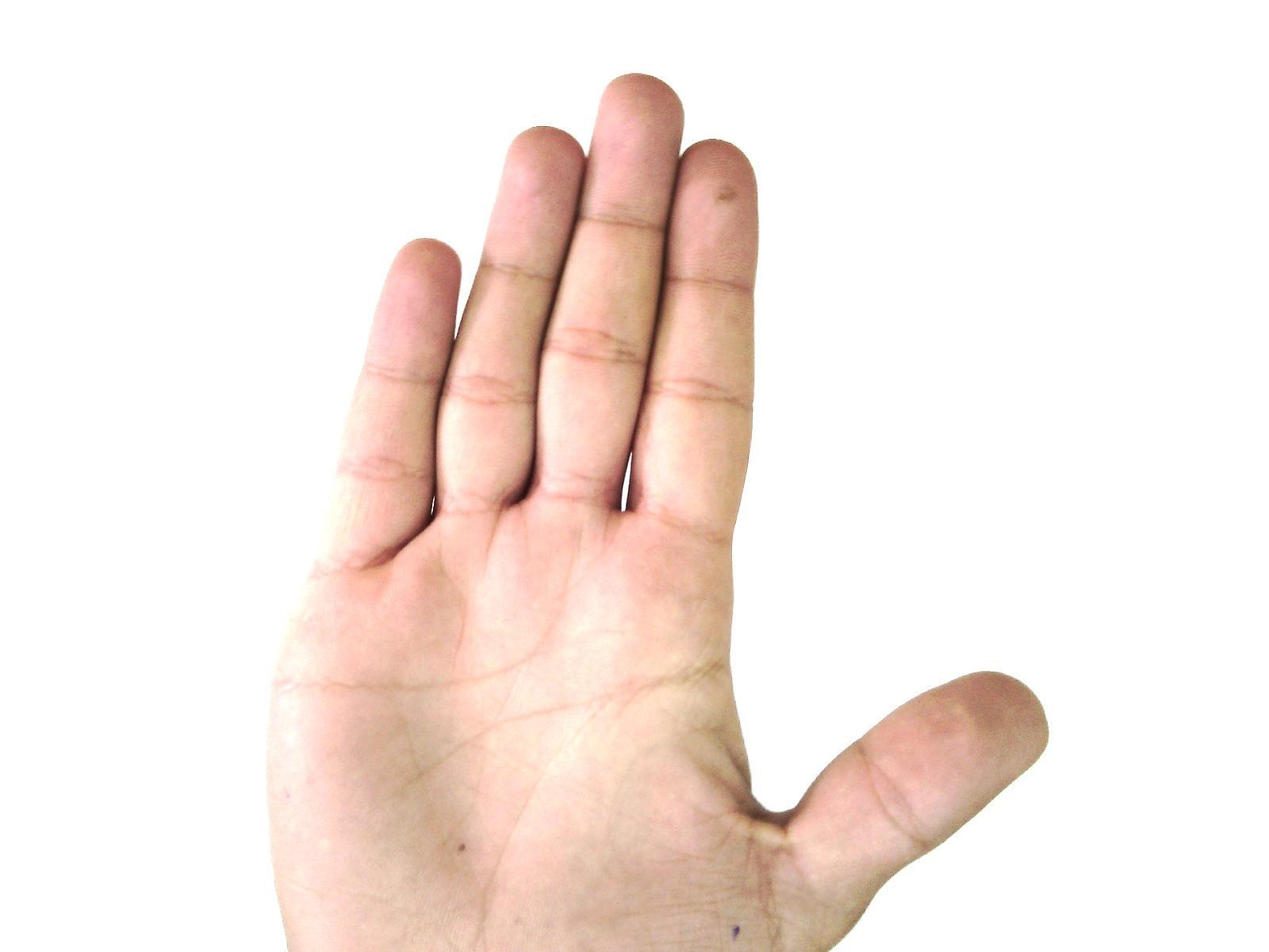open_palm: (262, 71, 1052, 951)
